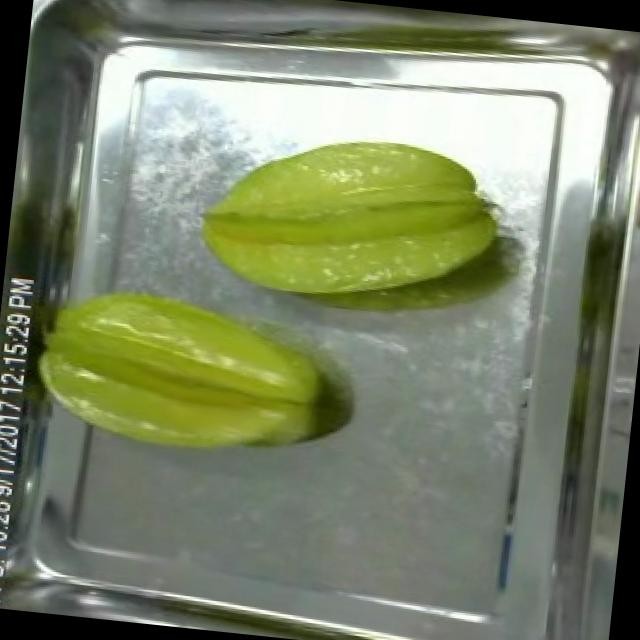fruit: (180, 114, 518, 328), (17, 270, 352, 480)
